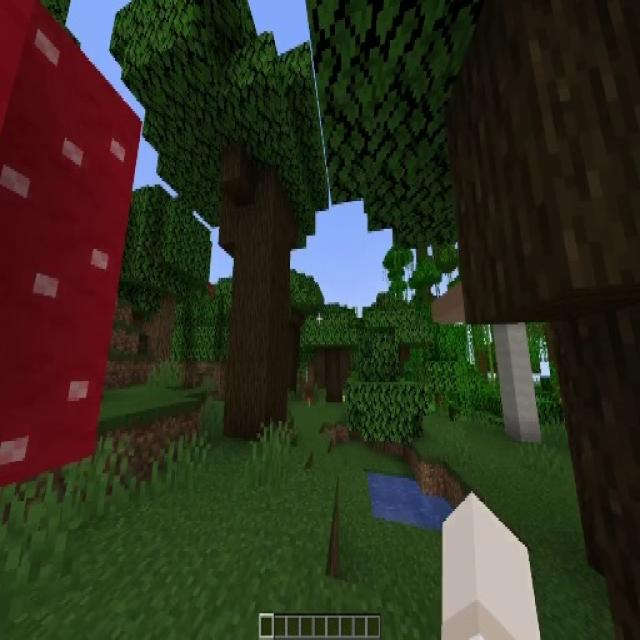dark_oak: (165, 0, 302, 435), (310, 305, 358, 401)
dark_oak_log: (460, 18, 640, 556), (218, 170, 296, 432), (324, 346, 342, 401)
